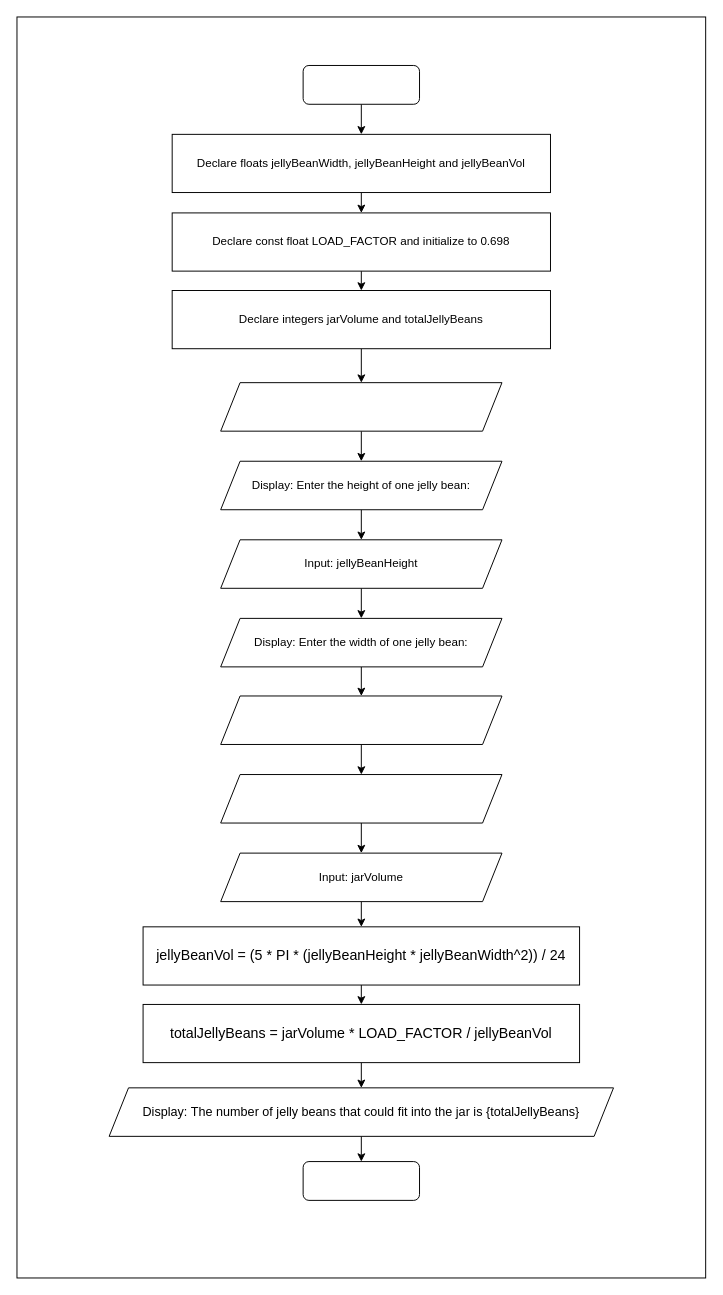
Image size: 723x1295. Some labels were removed from this diagram. The centre of each missing label's shape, as x and y in pixels:
Display: Welcome message: (x=361, y=406)
End: (x=361, y=1180)
Input: jellyBeanWidth: (x=361, y=719)
Prompt: Enter the volume of the jar:: (x=361, y=798)
Start: (x=361, y=84)
